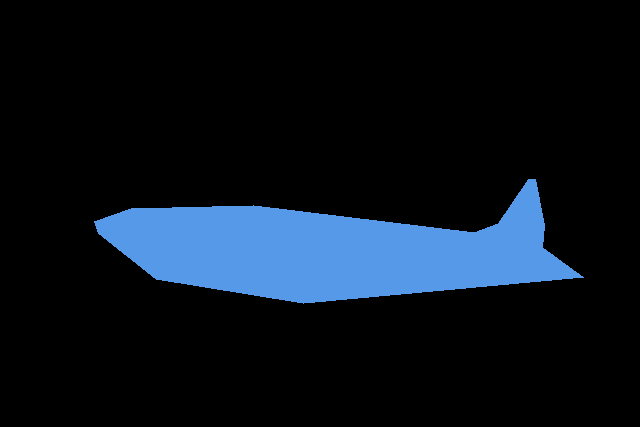Airplane: (94, 179, 583, 304)
